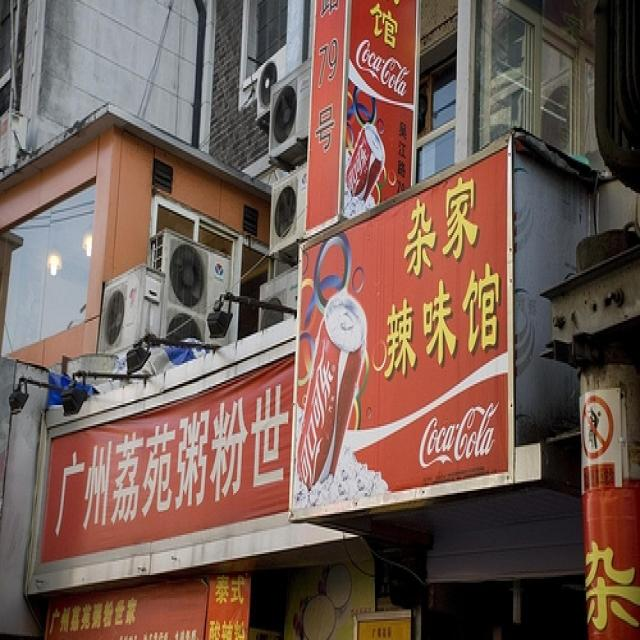cocacola: (415, 398, 506, 477), (353, 37, 418, 106)
